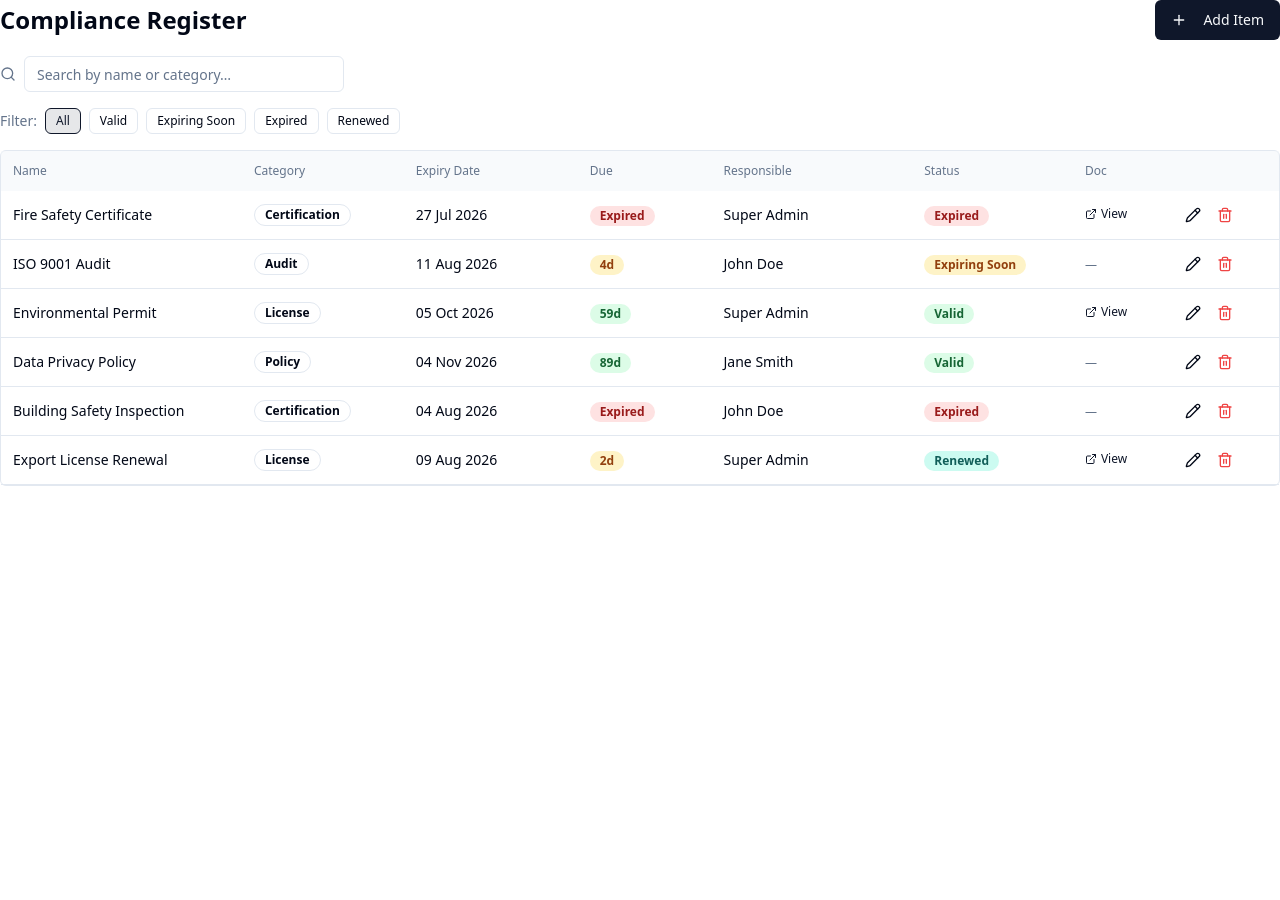
Test: CompliancePage › pre-populates edit dialog with item data
This screenshot has width=1280, height=900.
Check: the row with test id "compliance-row-comp-1" is shown, box [1,191,1279,240]
Click the button with test id "edit-comp-1": x=1192, y=215 [1178,201,1206,229]
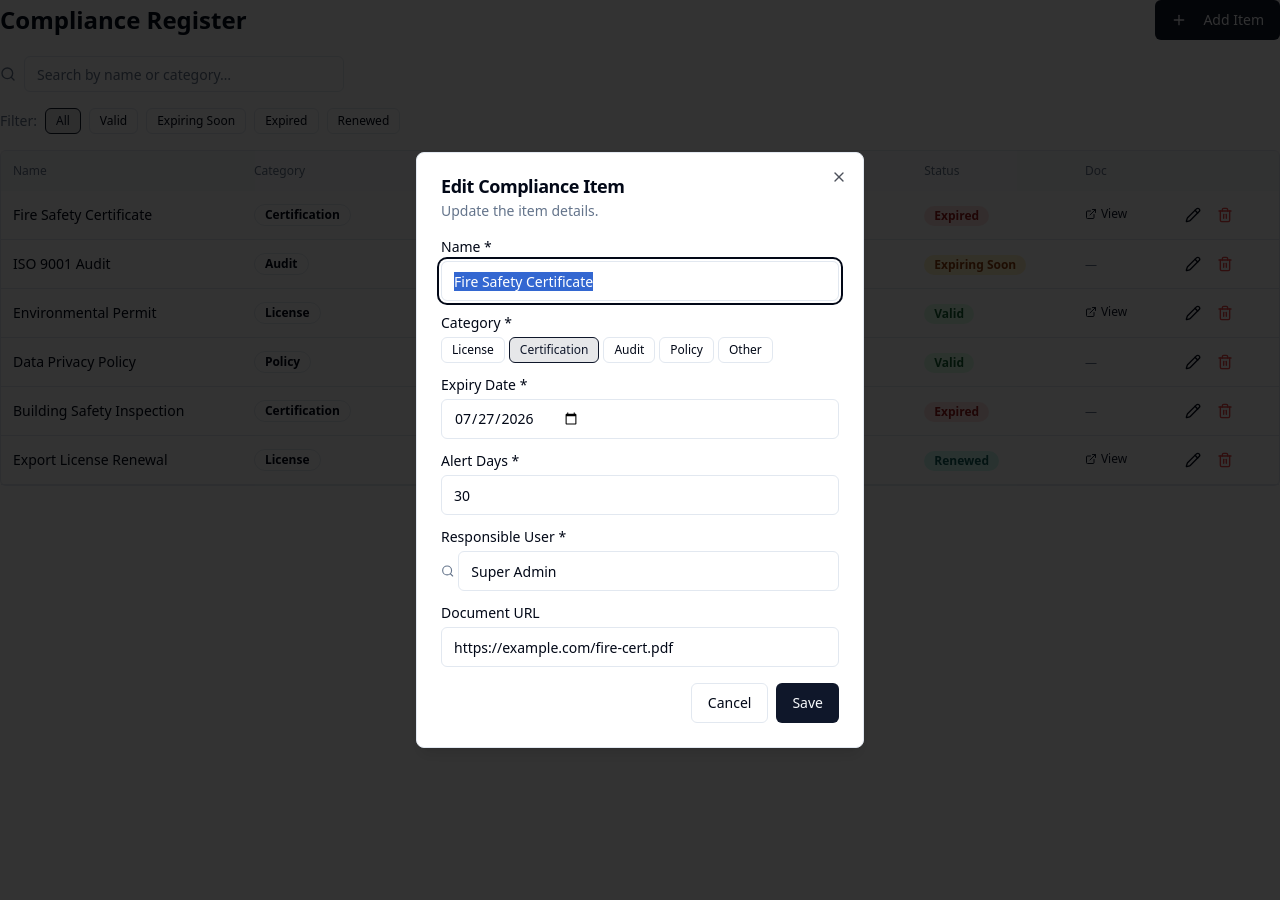
Check: the field with test id "form-name" holds "Fire Safety Certificate", box [441,261,839,301]
